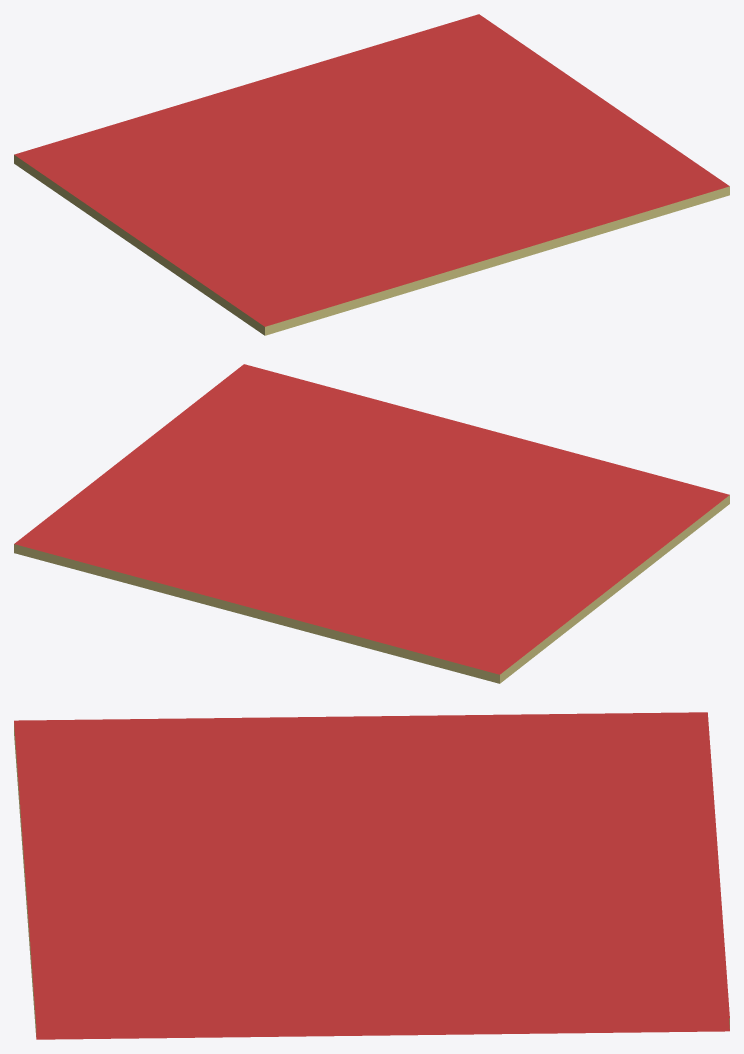
The picture shows the model from 3 angles, top to bottom: view 1: azimuth 30°, elevation 25°; view 2: azimuth 150°, elevation 25°; view 3: azimuth 270°, elevation 25°; orthographic projection. The views are drawn at different scales.
Bounding box in the file's own units: 5.64 × 4.98 × 0.318.
